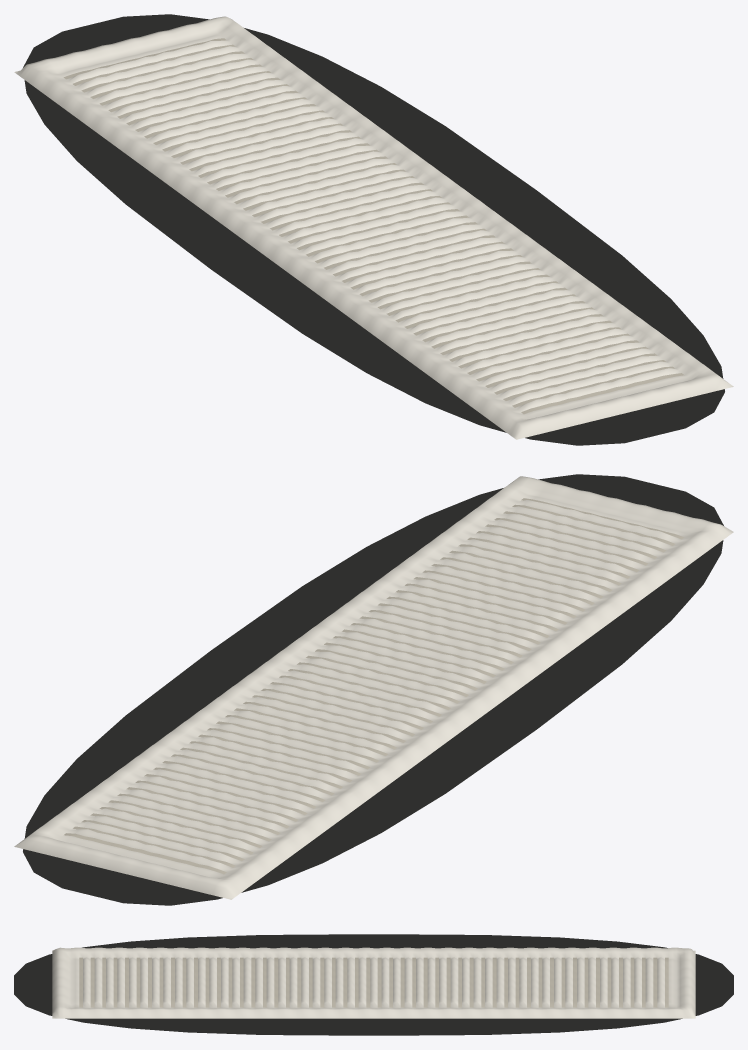
File: _t_runner.glb
3 renders of one model, top to bottom at view 1: azimuth 30°, elevation 25°; view 2: azimuth 150°, elevation 25°; view 3: azimuth 270°, elevation 25°, orthographic. The views are drawn at different scales.
Visible parts, largest first — view 1: root; view 2: root; view 3: root.
Part boxes in pixels (box(x1,y1,x2,y2)): root: box(14, 14, 733, 445); root: box(14, 474, 733, 905); root: box(14, 934, 733, 1035).
Size of the model in its own units: 1.14 by 0.0337 by 3.41.
